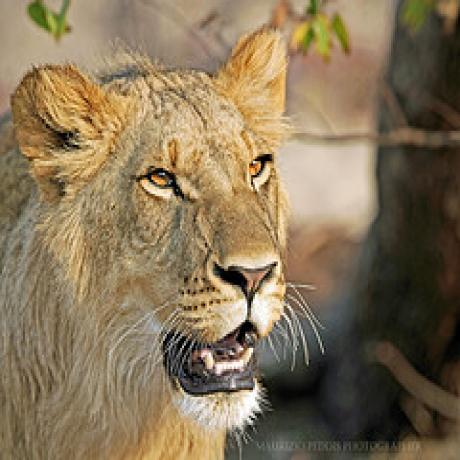Lion: (0, 21, 291, 460)
